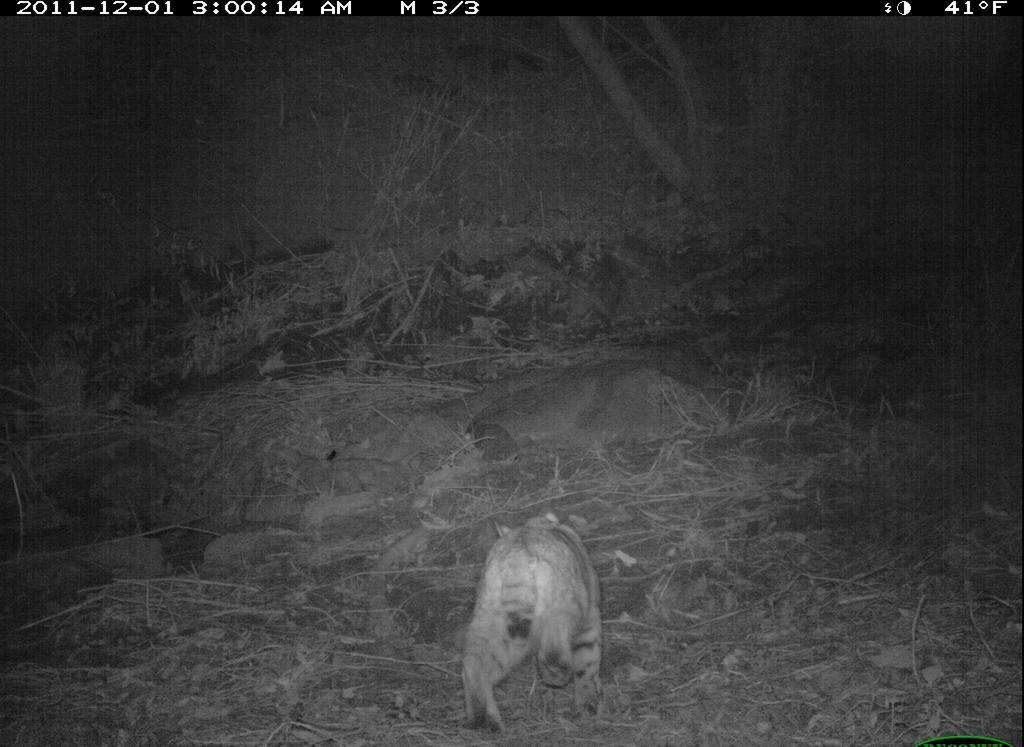bobcat: (451, 509, 620, 733)
